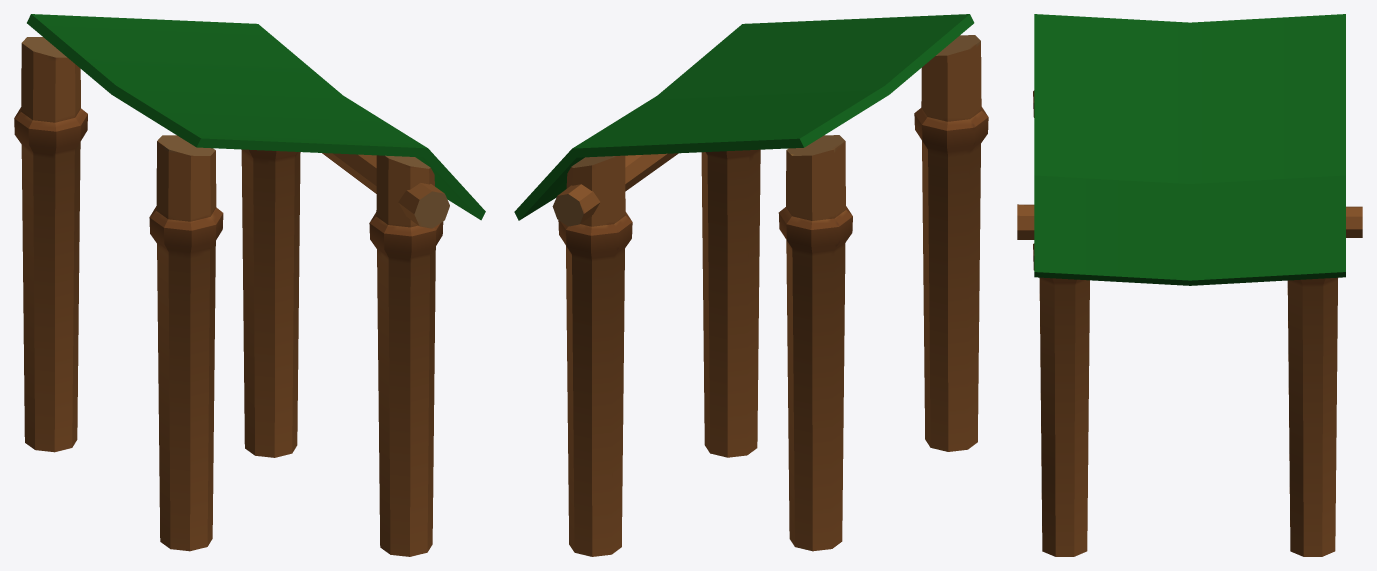
The model's file is Barrack3_decoration.fbx.
3 renders of one model, left to right at view 1: azimuth 30°, elevation 25°; view 2: azimuth 150°, elevation 25°; view 3: azimuth 270°, elevation 25°, orthographic. The views are drawn at different scales.
Visible parts, largest first — view 1: Barrack3_decoration; view 2: Barrack3_decoration; view 3: Barrack3_decoration.
Part boxes in pixels (<box>): Barrack3_decoration: <box>14,14,485,556</box>; Barrack3_decoration: <box>514,14,988,556</box>; Barrack3_decoration: <box>1017,14,1362,556</box>.
Bounding box in the file's own units: 419 × 606 × 437.
